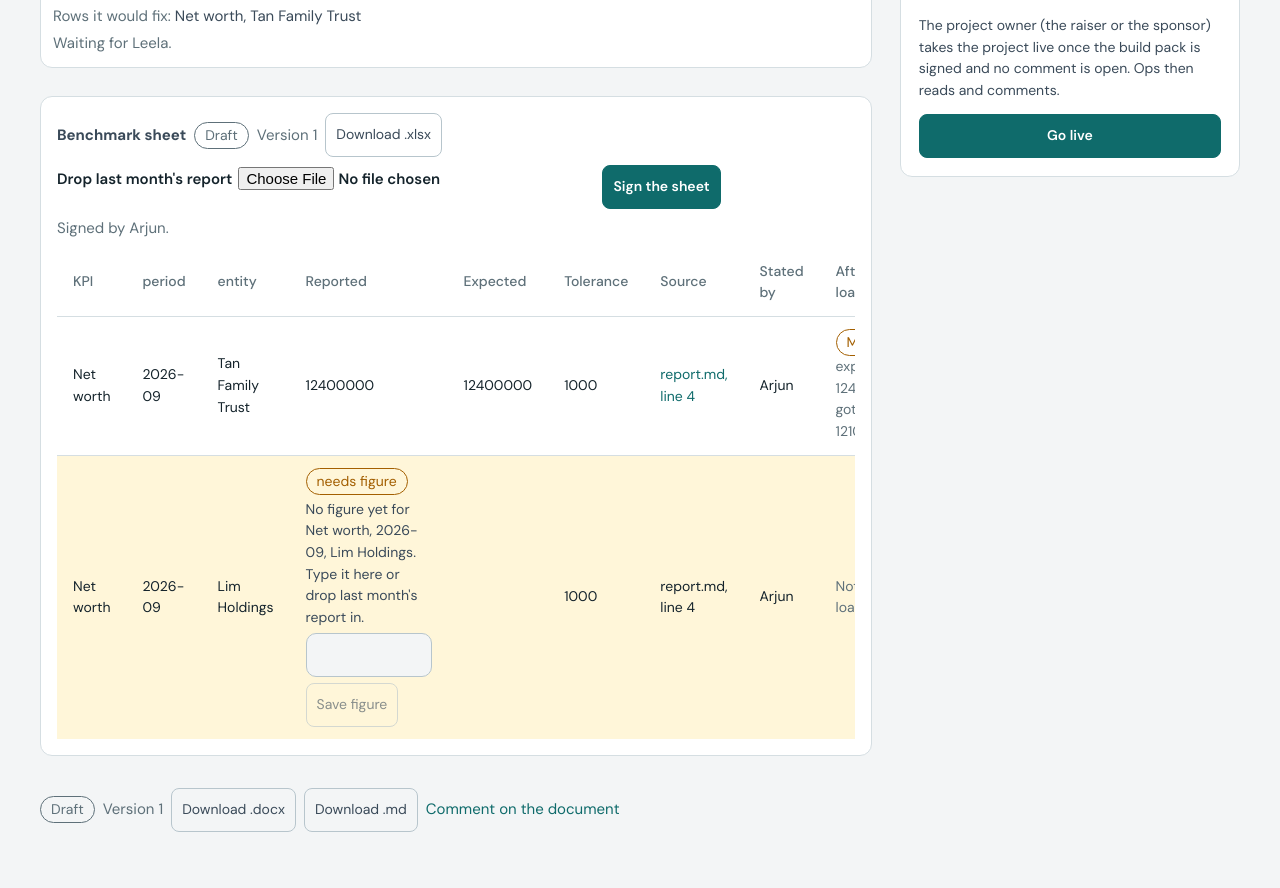
Test case: the sheet has a column per dimension, flags a missing figure, shows met or missed, and sign shows the refusal
(page scrolled)
Expected: the element named "Benchmark figures" shows "entity", [218, 272, 257, 290]
Expected: the element named "Benchmark figures" shows "Missed", [847, 333, 892, 351]
Type "8100000" into the field named "Reported figure for Net worth" at (369, 655), box [306, 633, 432, 677]
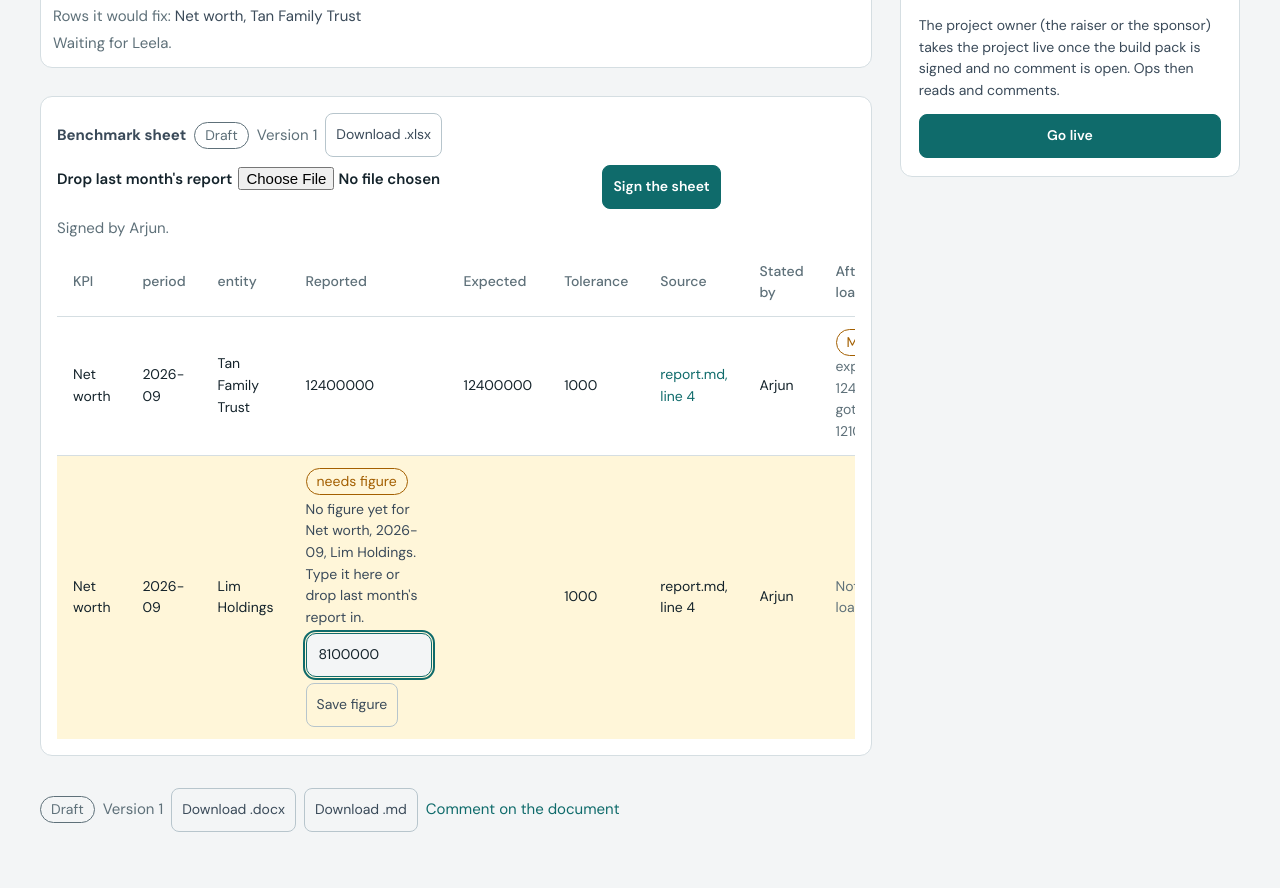
Click the button "Save figure" at (352, 705), box [306, 683, 398, 727]
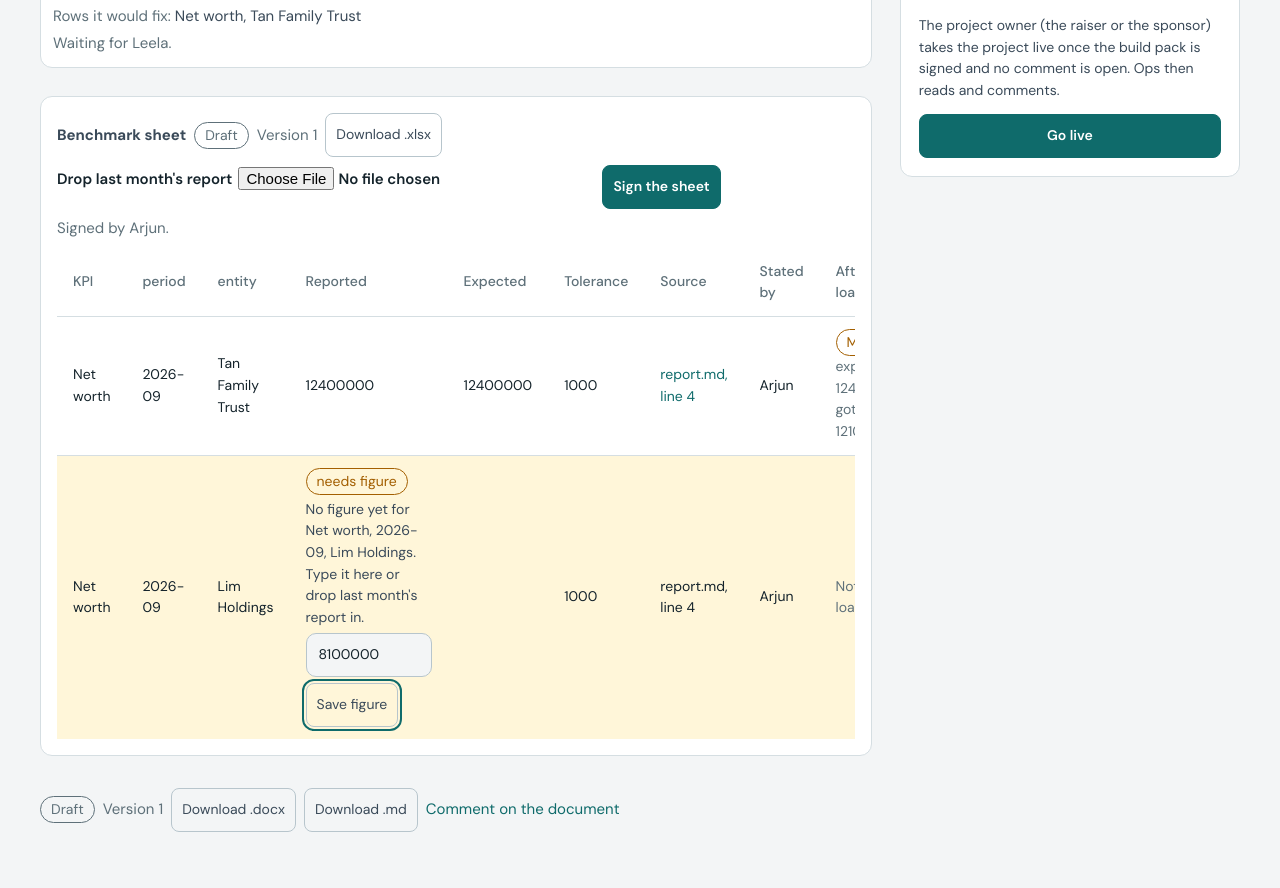
Click the button "Sign the sheet" at (662, 187), box [602, 165, 721, 209]
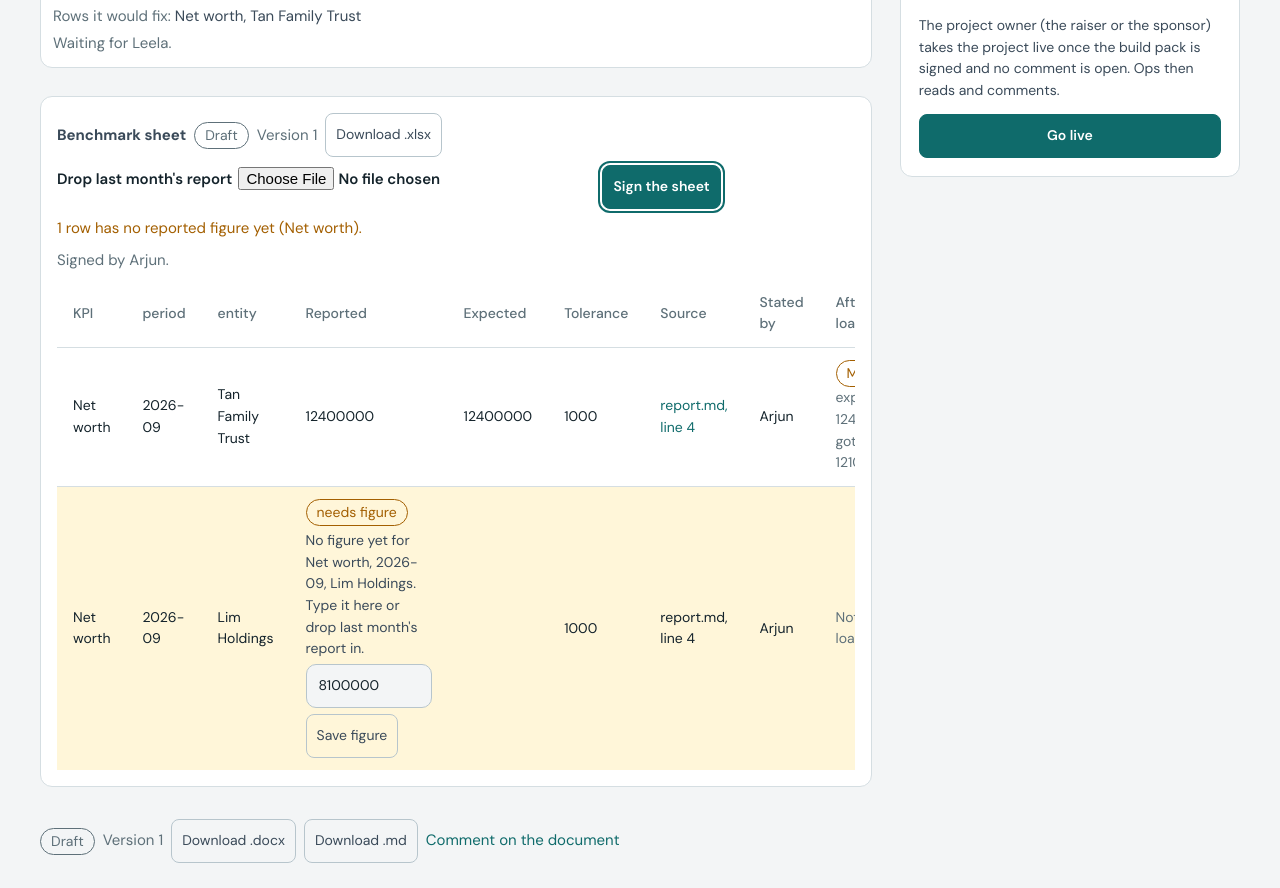
Expected: the message shows "1 row has no reported figure yet", [57, 218, 362, 238]
